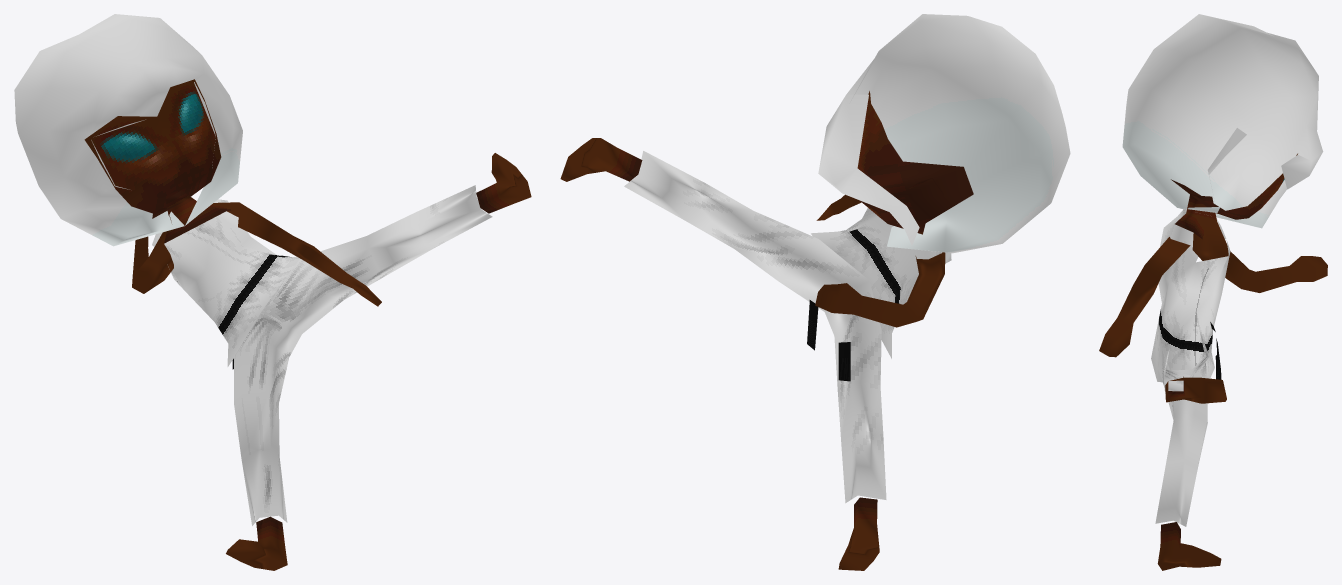
Rendered from ps2_save-icons_beatmaniaiidx7thstyle.glb.
The picture shows the model from 3 angles, left to right: view 1: azimuth 30°, elevation 25°; view 2: azimuth 150°, elevation 25°; view 3: azimuth 270°, elevation 25°; orthographic projection. The views are drawn at different scales.
Parts seen in each view (by area): view 1: 2DXICON.ico; view 2: 2DXICON.ico; view 3: 2DXICON.ico.
Boxes of the visible parts, x1,y1,x2,y2 form: 2DXICON.ico: (14,14,531,570); 2DXICON.ico: (560,14,1070,570); 2DXICON.ico: (1099,14,1327,570).
Size of the model in its own units: 4.37 by 4.93 by 2.07.
Materials: 1 (1 with a texture image).
